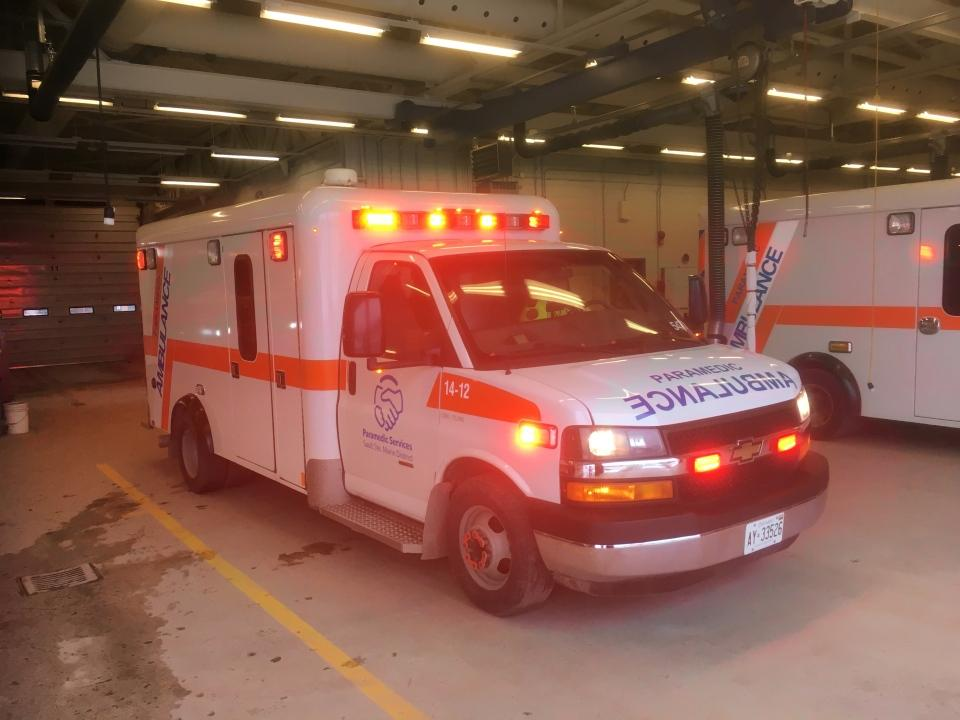ambulance_on: (135, 180, 830, 616)
